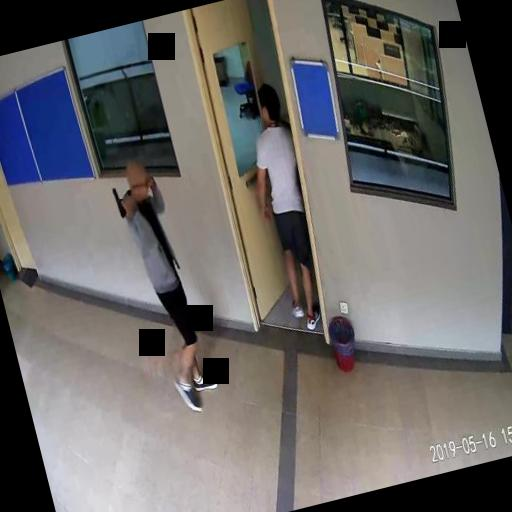Handgun: (110, 182, 135, 218)
